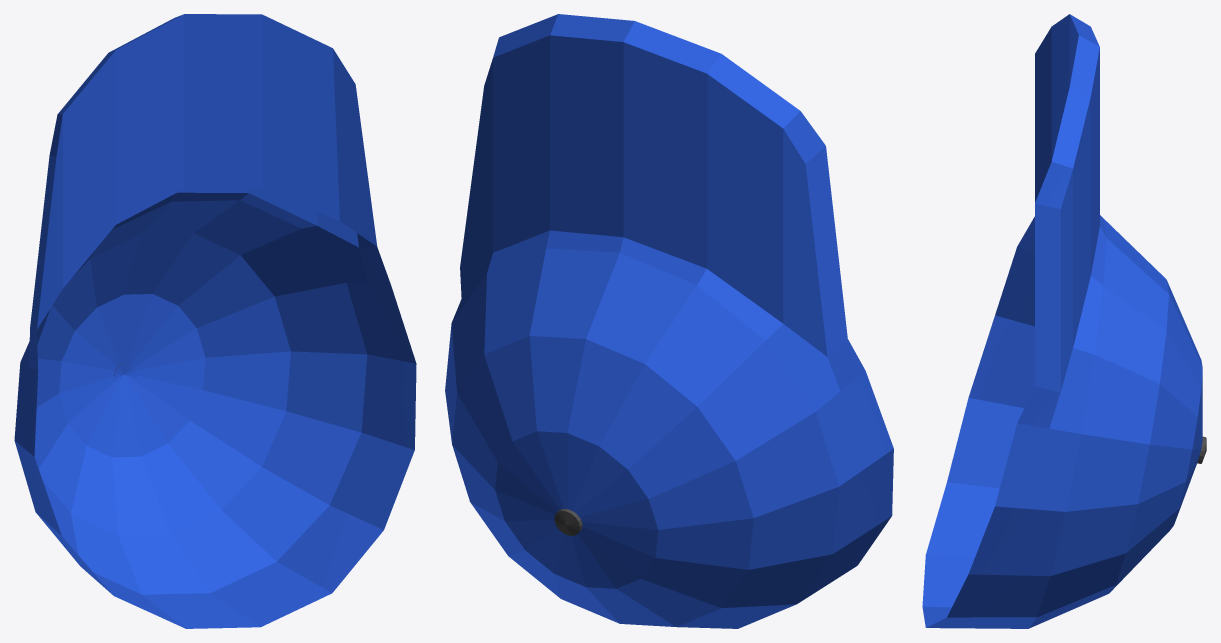
File: CapHat.fbx
The picture shows the model from 3 angles, left to right: view 1: azimuth 30°, elevation 25°; view 2: azimuth 150°, elevation 25°; view 3: azimuth 270°, elevation 25°; orthographic projection. The views are drawn at different scales.
Parts seen in each view (by area): view 1: Sphere.002; view 2: Sphere.002; view 3: Sphere.002.
Boxes of the visible parts, left/top/right/bottom form: Sphere.002: left=14, top=14, right=416, bottom=628; Sphere.002: left=445, top=14, right=893, bottom=628; Sphere.002: left=922, top=14, right=1206, bottom=628.
Bounding box in the file's own units: 80 × 112 × 50.25.
